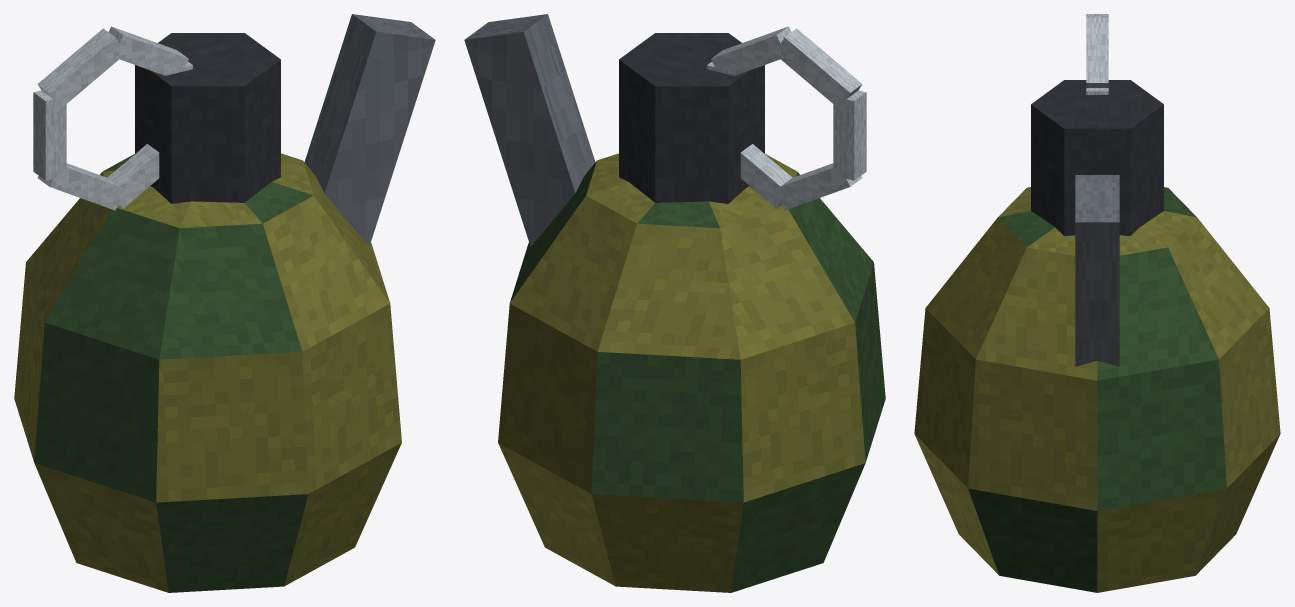
Rendered from weapon_grenade.glb.
3 views of the same model, side by side, from view 1: azimuth 30°, elevation 25°; view 2: azimuth 150°, elevation 25°; view 3: azimuth 270°, elevation 25° (orthographic). The views are drawn at different scales.
Visible parts, largest first — view 1: weapon_grenade; view 2: weapon_grenade; view 3: weapon_grenade.
Boxes of the visible parts, x1,y1,x2,y2 form: weapon_grenade: [14, 14, 435, 592]; weapon_grenade: [464, 14, 885, 592]; weapon_grenade: [914, 14, 1280, 592].
Size of the model in its own units: 0.0739 by 0.0997 by 0.066.
1 material, 1 textured.
